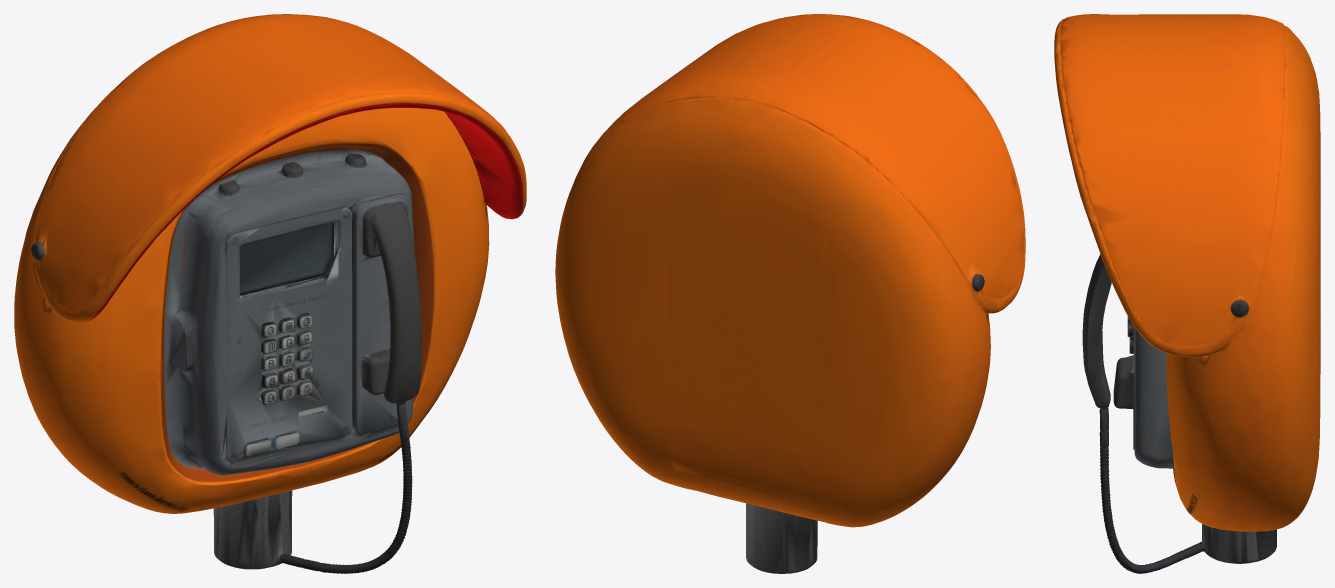
The model's file is orelhao-v2__01a163bd.glb.
3 views of the same model, side by side, from view 1: azimuth 30°, elevation 25°; view 2: azimuth 150°, elevation 25°; view 3: azimuth 270°, elevation 25° (orthographic). The views are drawn at different scales.
Visible parts, largest first — view 1: orelhao-v2__01a163bd; view 2: orelhao-v2__01a163bd; view 3: orelhao-v2__01a163bd.
Boxes of the visible parts, <box> form: orelhao-v2__01a163bd: <box>14,14,526,573</box>; orelhao-v2__01a163bd: <box>555,14,1025,573</box>; orelhao-v2__01a163bd: <box>1054,14,1320,573</box>.
Bounding box in the file's own units: 1.17 × 1.3 × 0.6104.
1 material, 1 textured.
